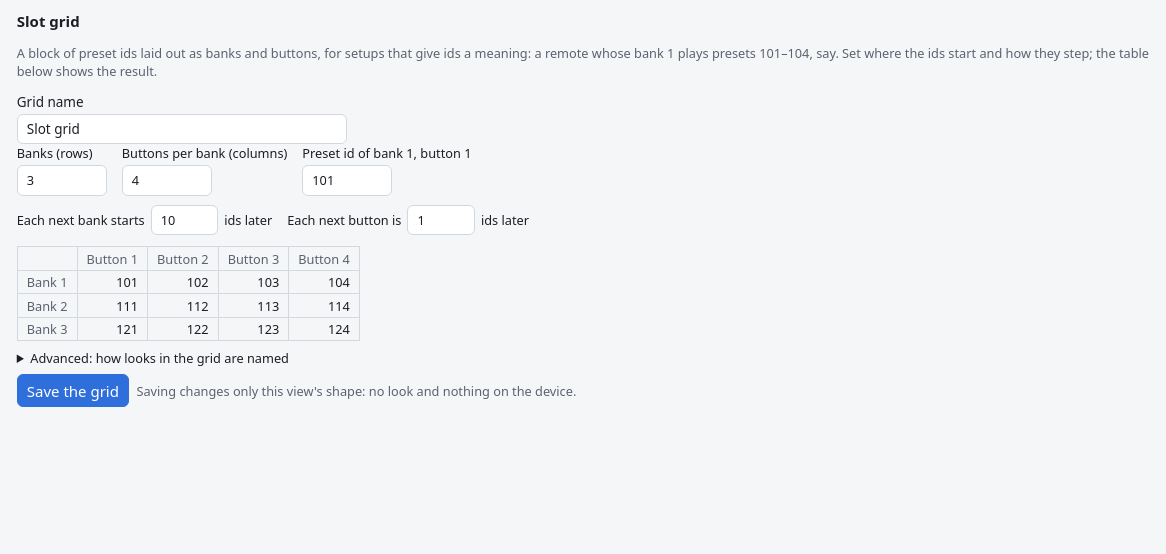
Test: the miniature shortens a tall grid
The width and height of the screenshot is (1166, 554).
Replace the text in the number field labelled "Banks (rows)" with "20" at (62, 180), box [17,165,107,196]
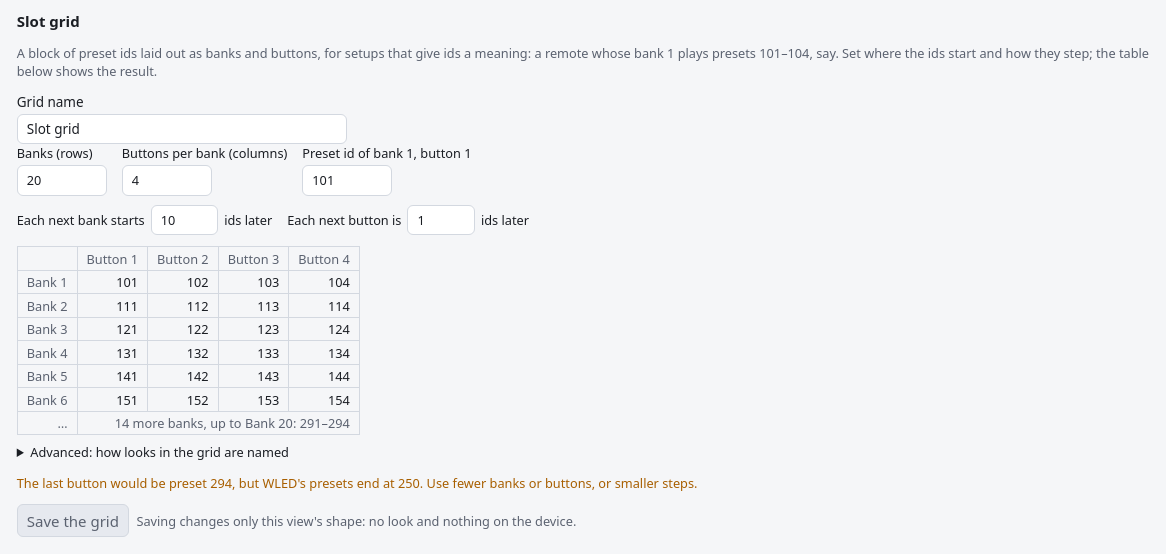
Replace the text in the number field labelled "Preset id of bank 1, button 1" with "1" at (347, 180), box [302,165,392,196]
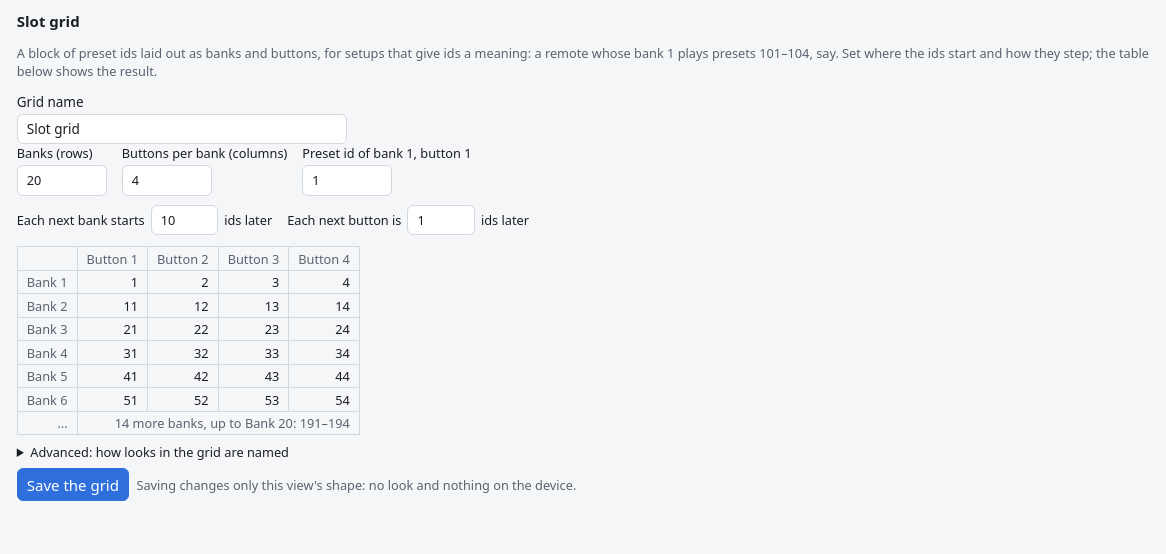
Result: the text "14 more banks, up to Bank 20: 191–194" is shown at [77,411,359,435]
